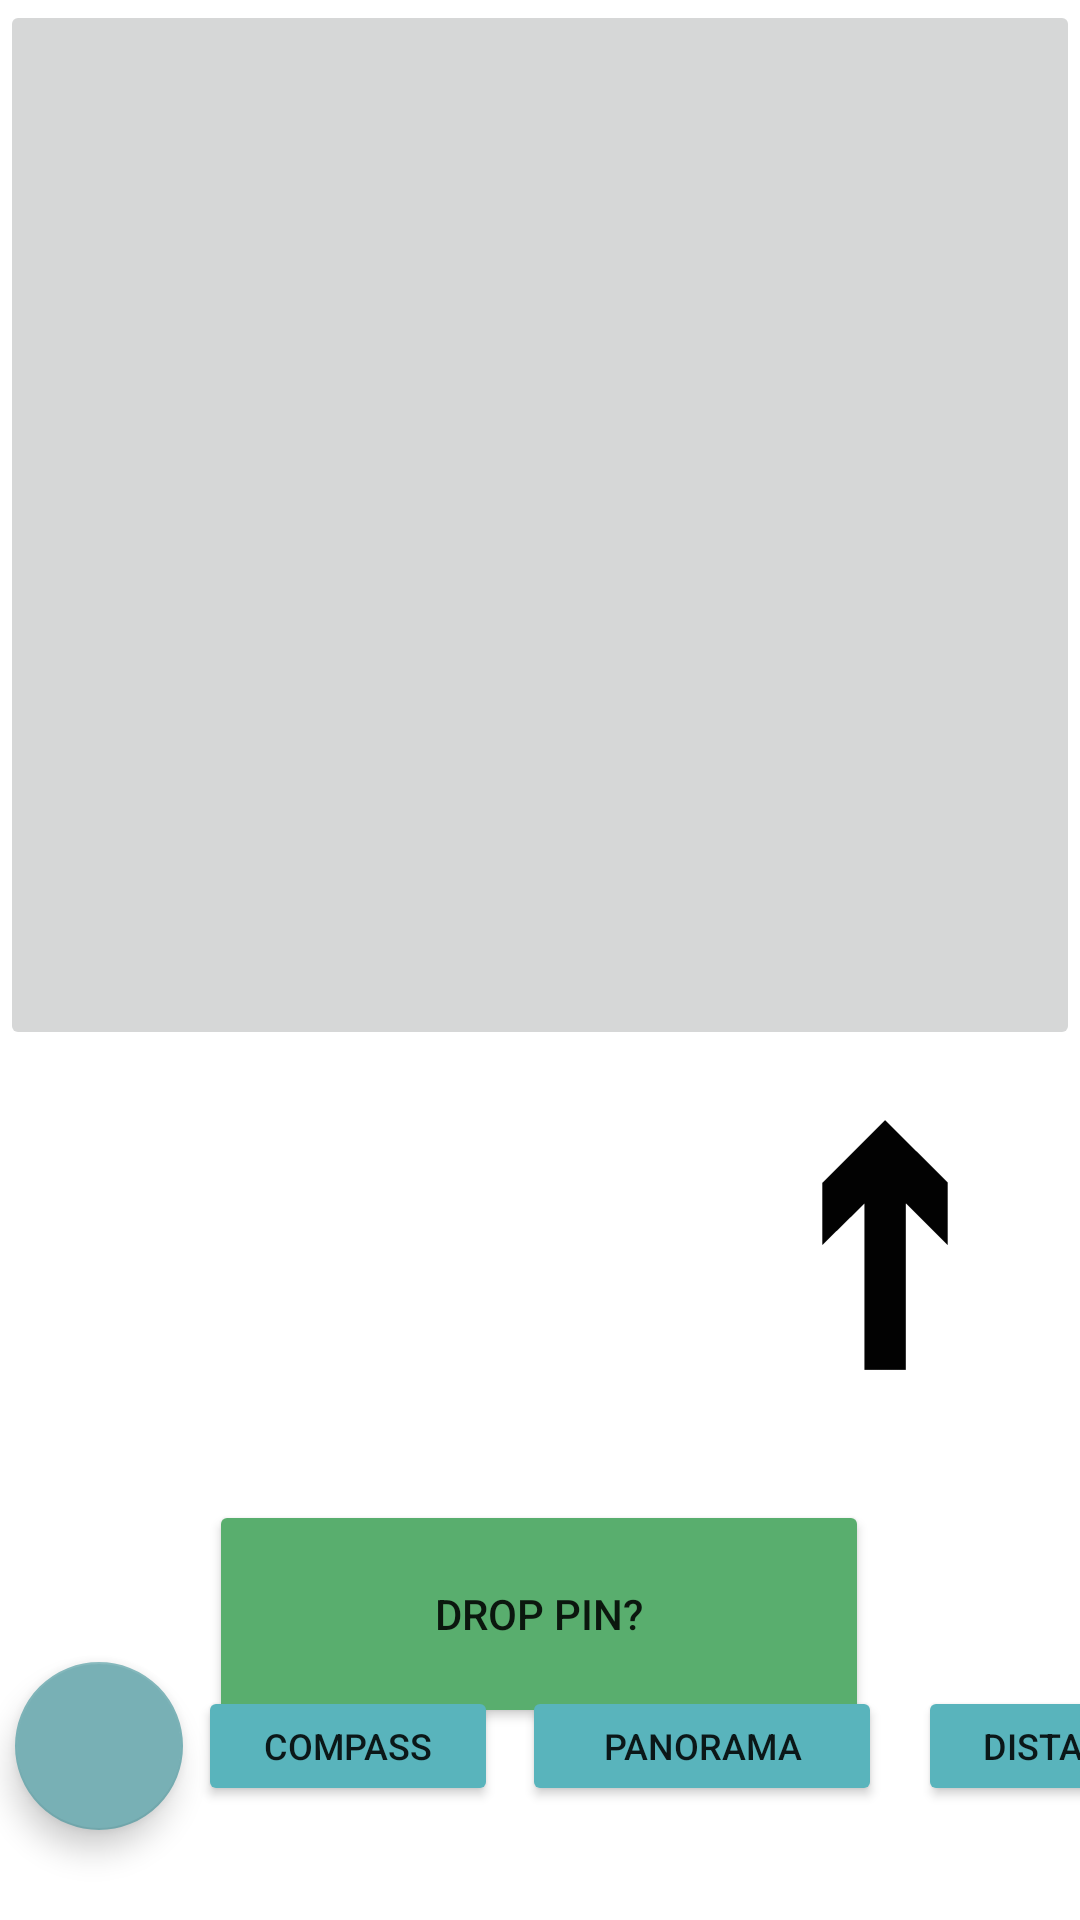

Named icons in this screenshot (1080 x 1920) and their centers, point (x, y):
directional arrow: point (885, 1245)
